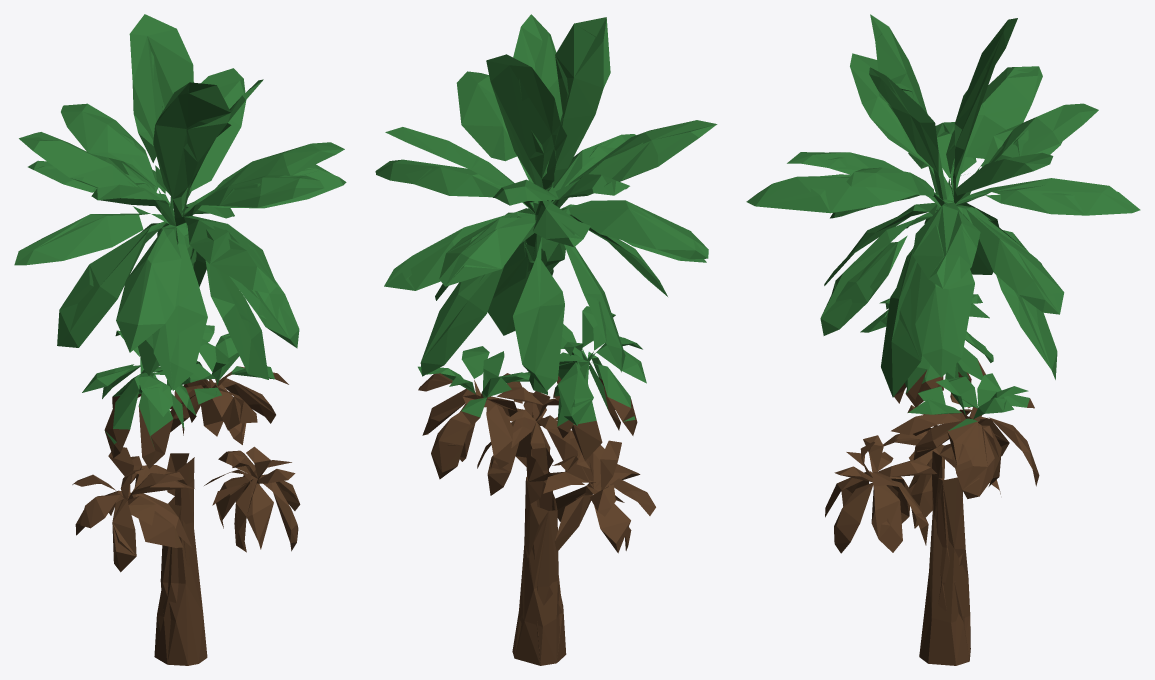
File: tree-3.glb
The picture shows the model from 3 angles, left to right: view 1: azimuth 30°, elevation 25°; view 2: azimuth 150°, elevation 25°; view 3: azimuth 270°, elevation 25°; orthographic projection. The views are drawn at different scales.
Visible parts, largest first — view 1: output_unwrapped; view 2: output_unwrapped; view 3: output_unwrapped.
Part boxes in pixels (box(x1,y1,x2,y2)): output_unwrapped: box(14, 14, 346, 665); output_unwrapped: box(375, 14, 717, 665); output_unwrapped: box(746, 14, 1140, 665).
Size of the model in its own units: 3.92 by 7 by 3.93.
